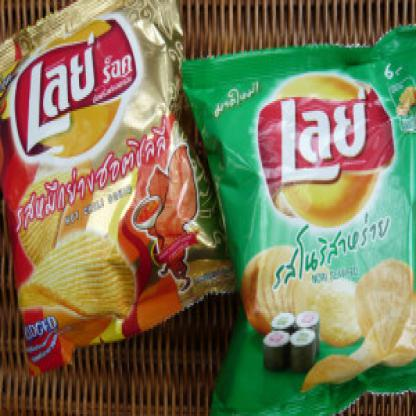potatochip: (0, 0, 253, 385), (176, 14, 415, 414)
